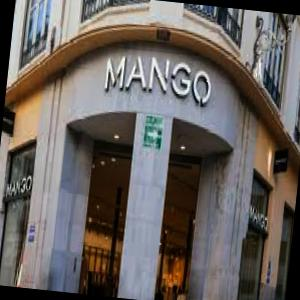mango: (97, 52, 216, 114)
